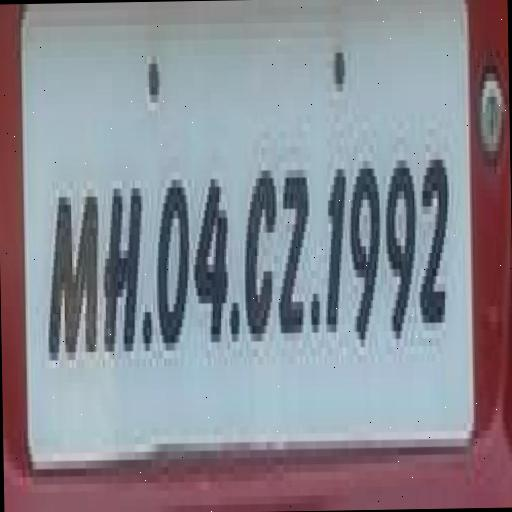number plate: (14, 0, 475, 469)
